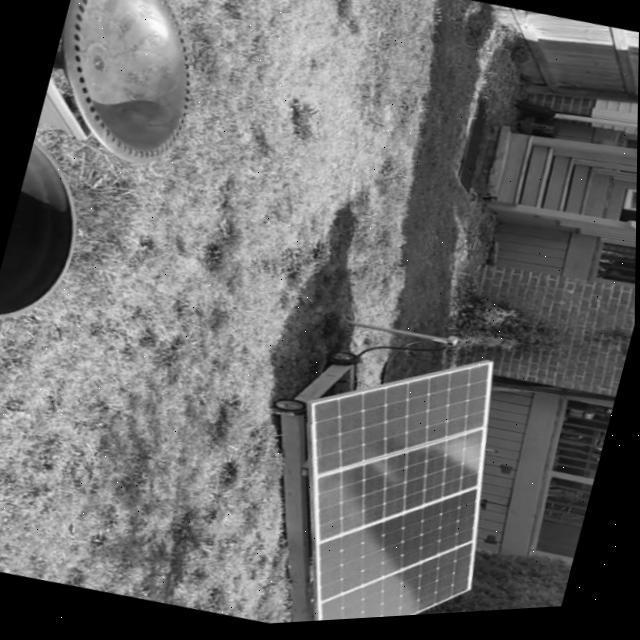Normal Solar Panel: (252, 324, 530, 628)
